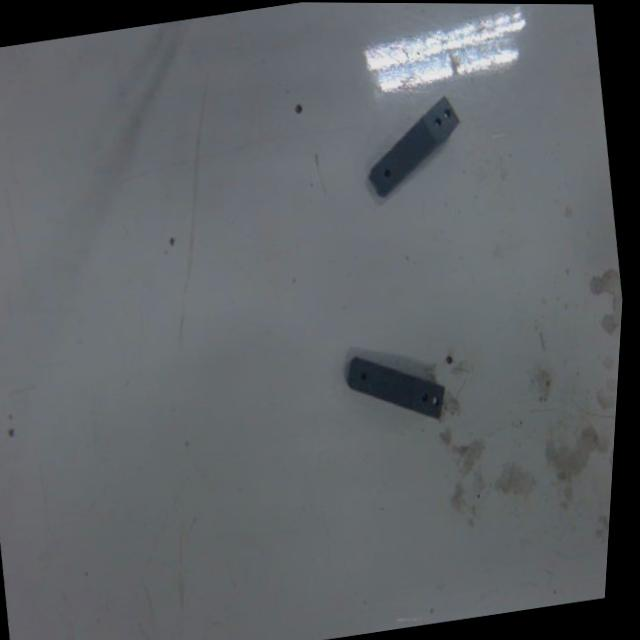grey: (354, 90, 473, 205), (337, 340, 452, 436)
head: (380, 163, 393, 179), (357, 370, 368, 384)
